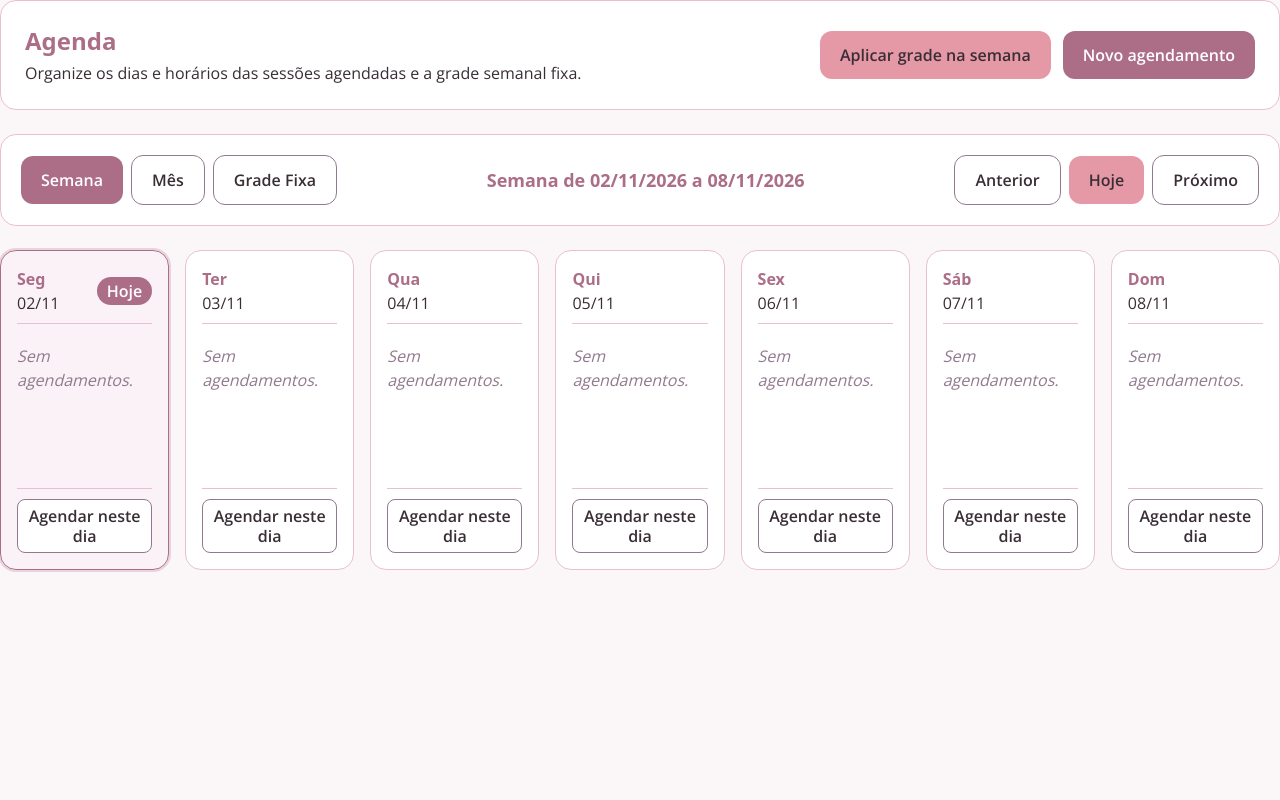
Tela T11 — Agenda (F4.5-T3 — RN70–RN76) › exibe visão Semana por padrão, alterna para Mês e navega com Anterior, Hoje e Próximo (RN71)
Expected: the heading "Agenda" is shown, [25, 24, 116, 57]
Expected: the element with test id "visao-semana" is shown, [0, 250, 1279, 570]
// Navegar Próximo e Anterior na semana
Click the button "Próximo" at (1206, 180), box [1152, 155, 1259, 205]
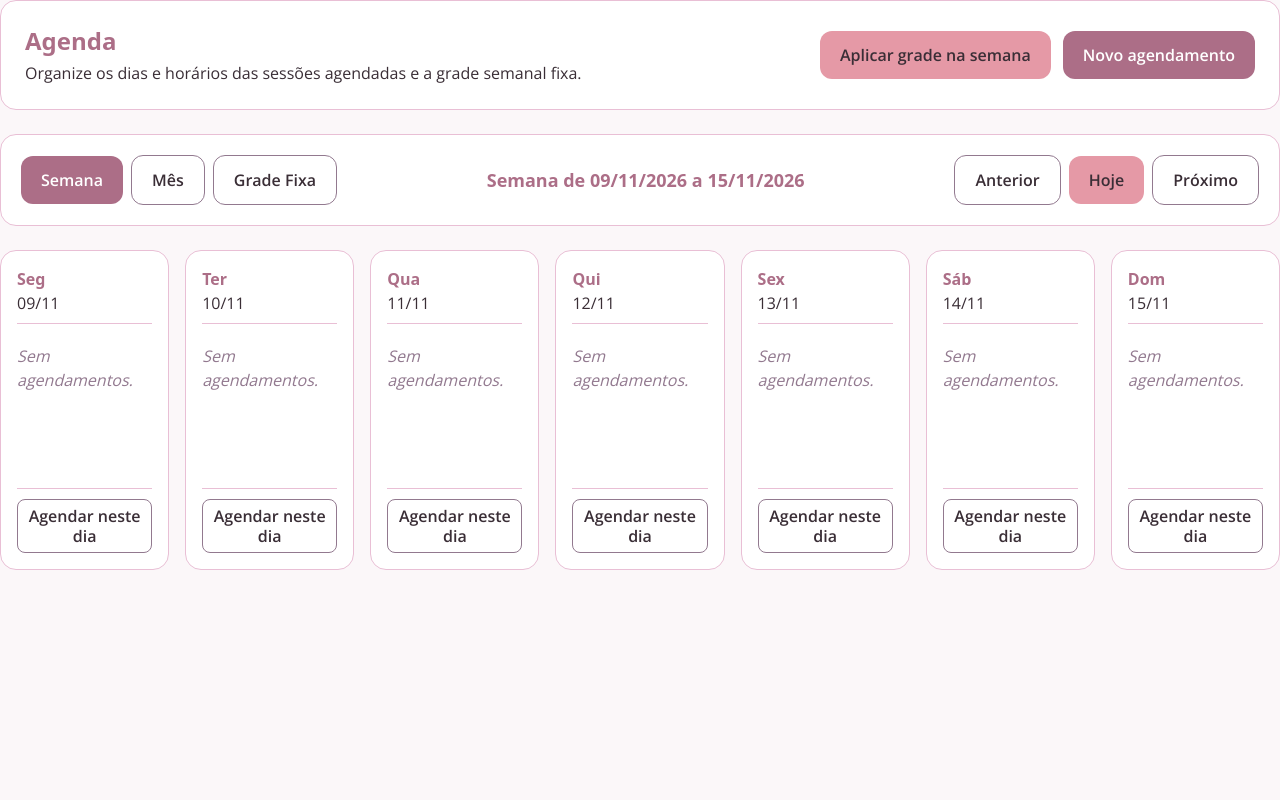
Expected: the text with test id "rotulo-periodo-agenda" reads "Semana de 09/11/2026 a 15/11/2026", [487, 168, 805, 192]
Click the button "Hoje" at (1106, 180), box [1069, 156, 1144, 204]
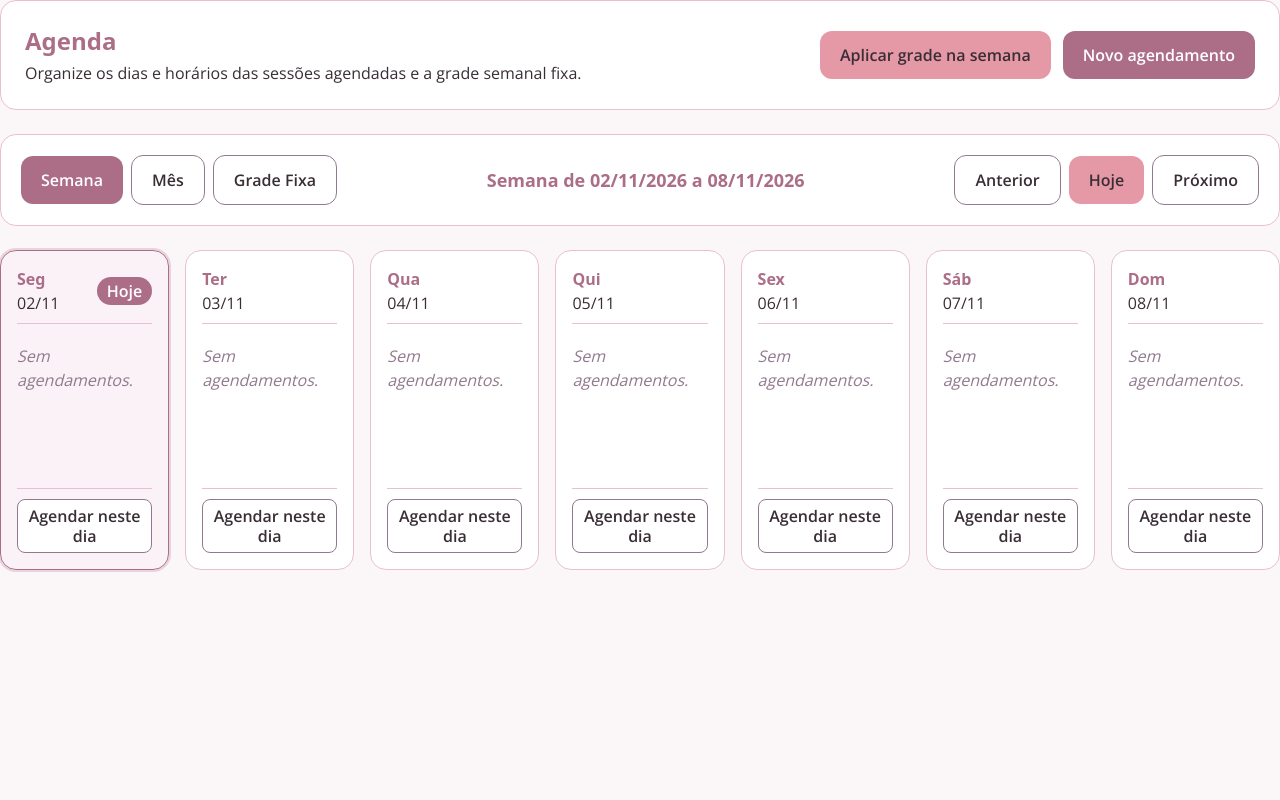
Expected: the text with test id "rotulo-periodo-agenda" reads "Semana de 02/11/2026 a 08/11/2026", [487, 168, 805, 192]
// Alternar para visão Mês
Click the button "Mês" at (168, 180), box [131, 155, 205, 205]
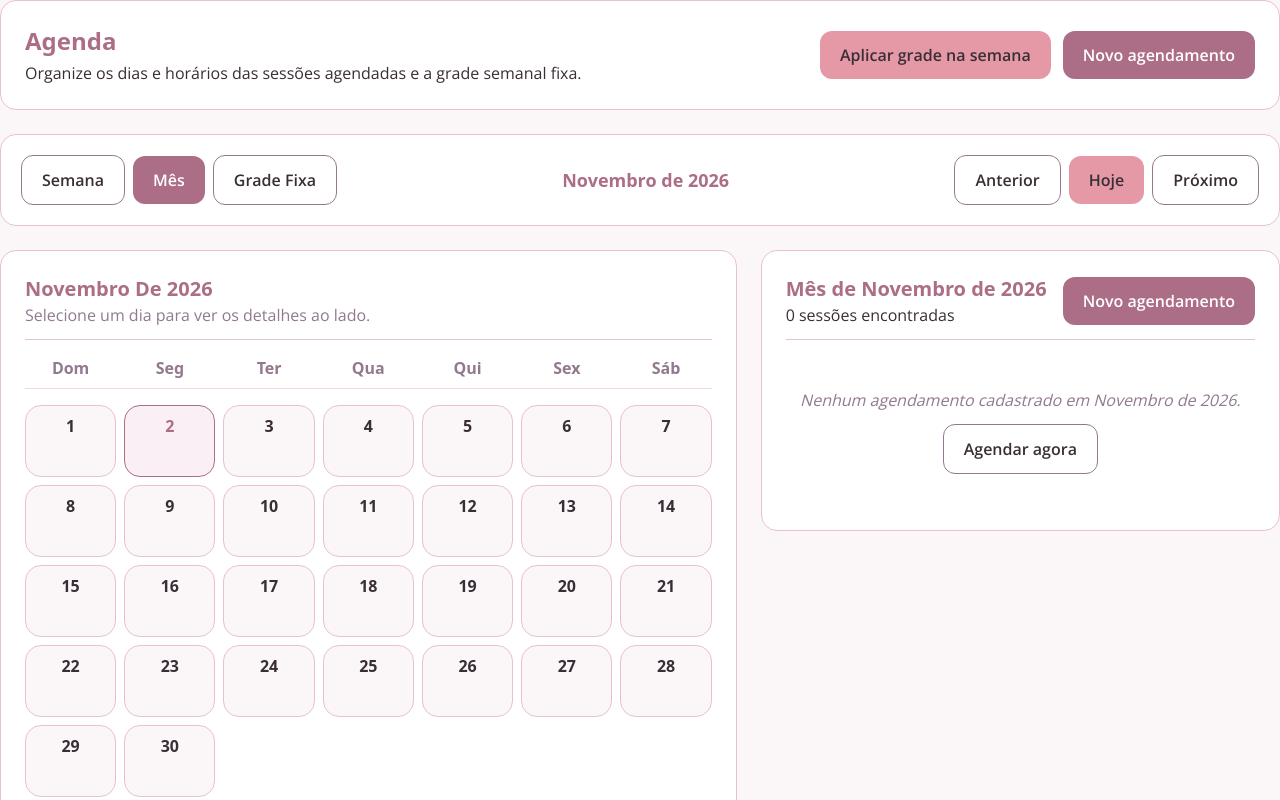
Expected: the text with test id "rotulo-periodo-agenda" reads "Novembro de 2026", [562, 168, 729, 192]
